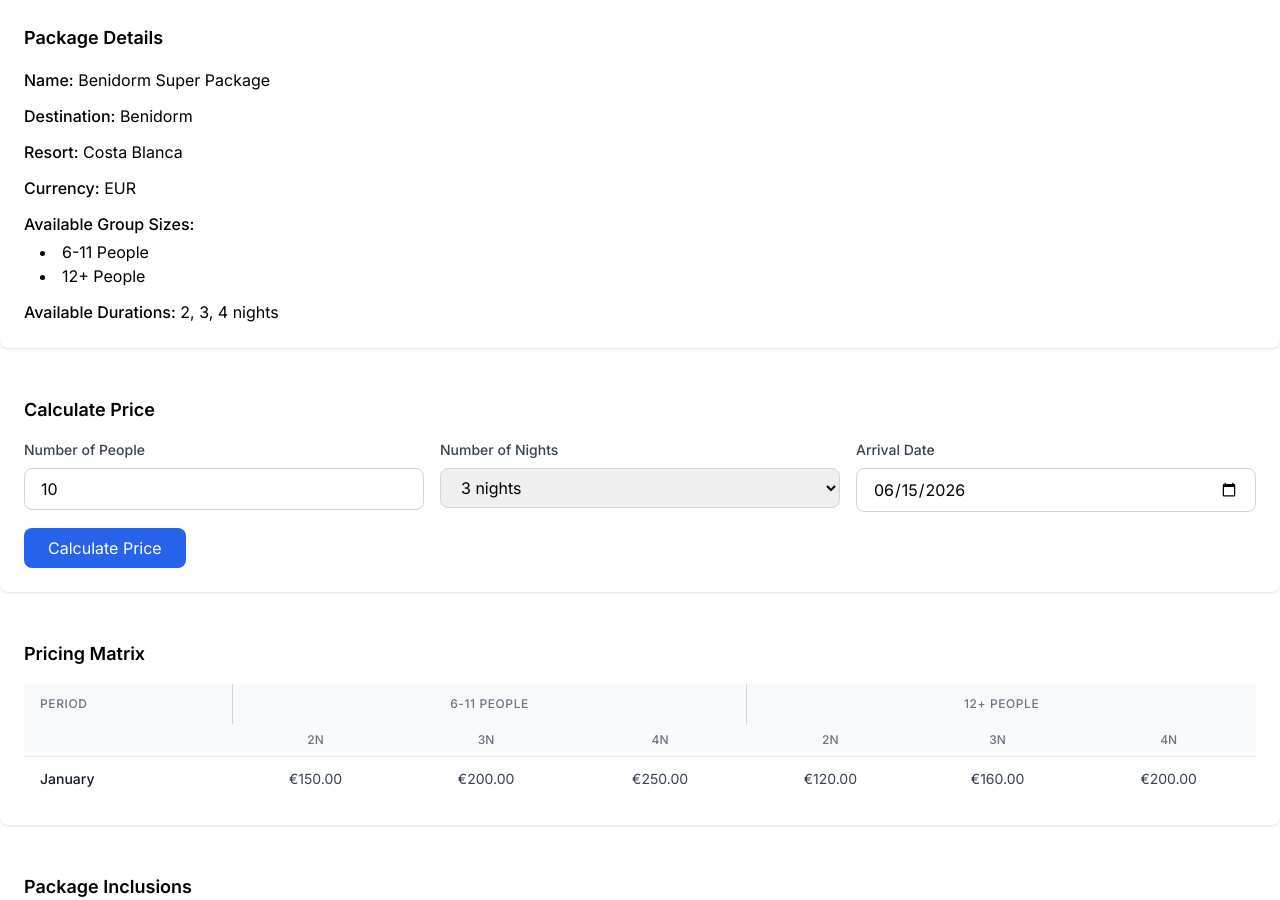
Test case: PackagePriceCalculator › Price Calculation › should display ON_REQUEST message when price is on request
Click the button "Calculate Price" at point(105, 548), box [24,528,186,568]
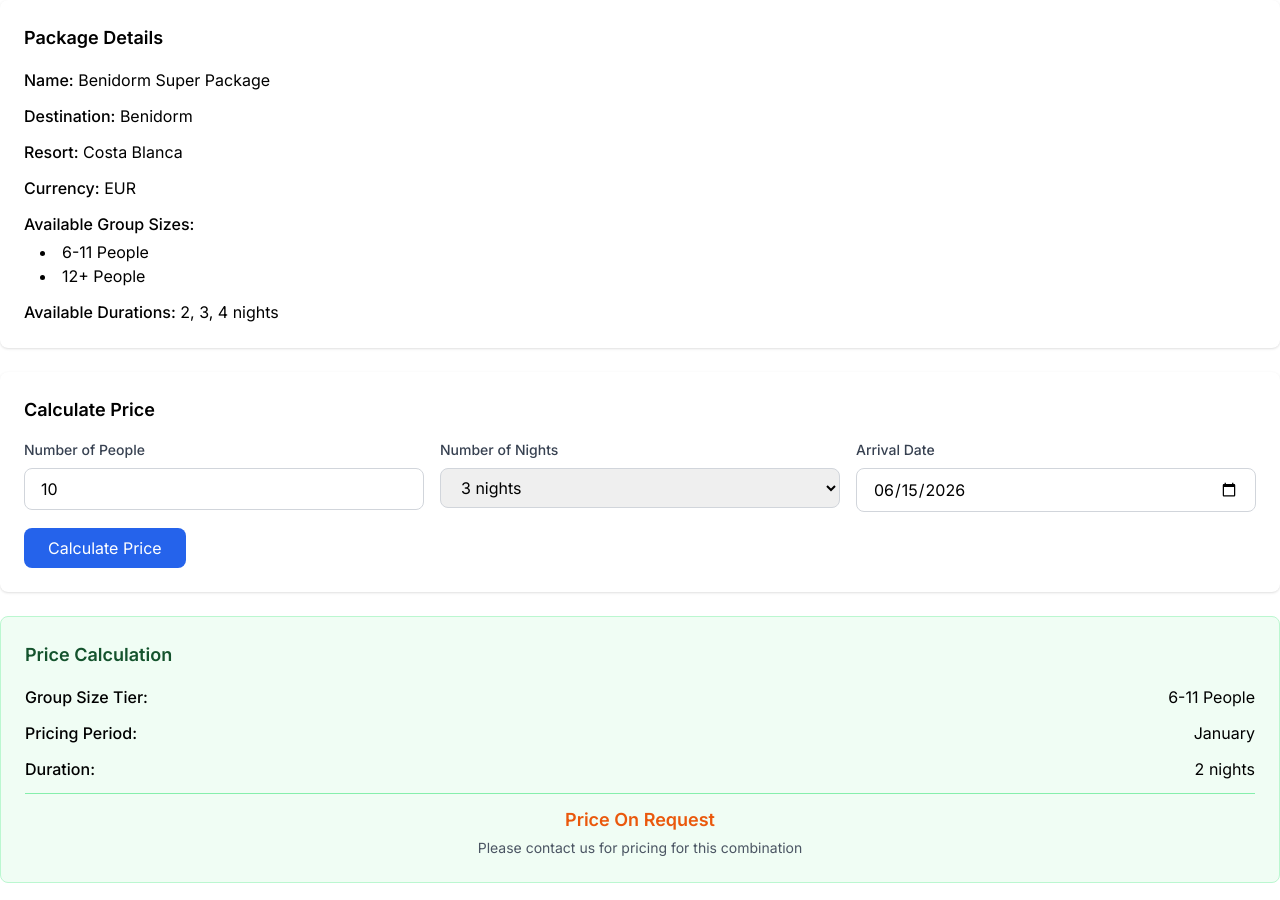
Check: the text "Price On Request" is shown, box [565,809,715,830]
